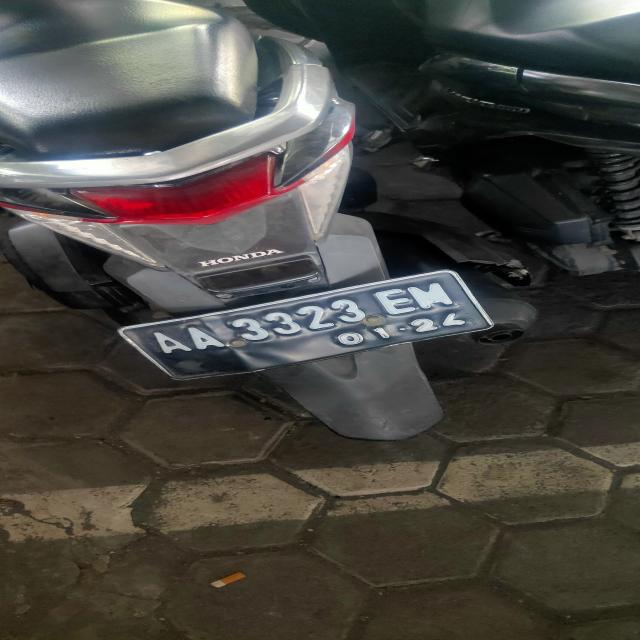License-Plate: (94, 264, 526, 386)
